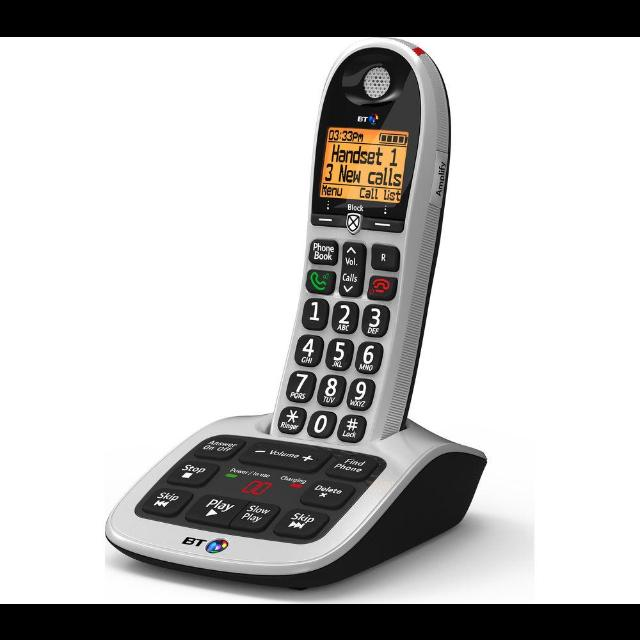Telephone-Set: (101, 36, 511, 598)
